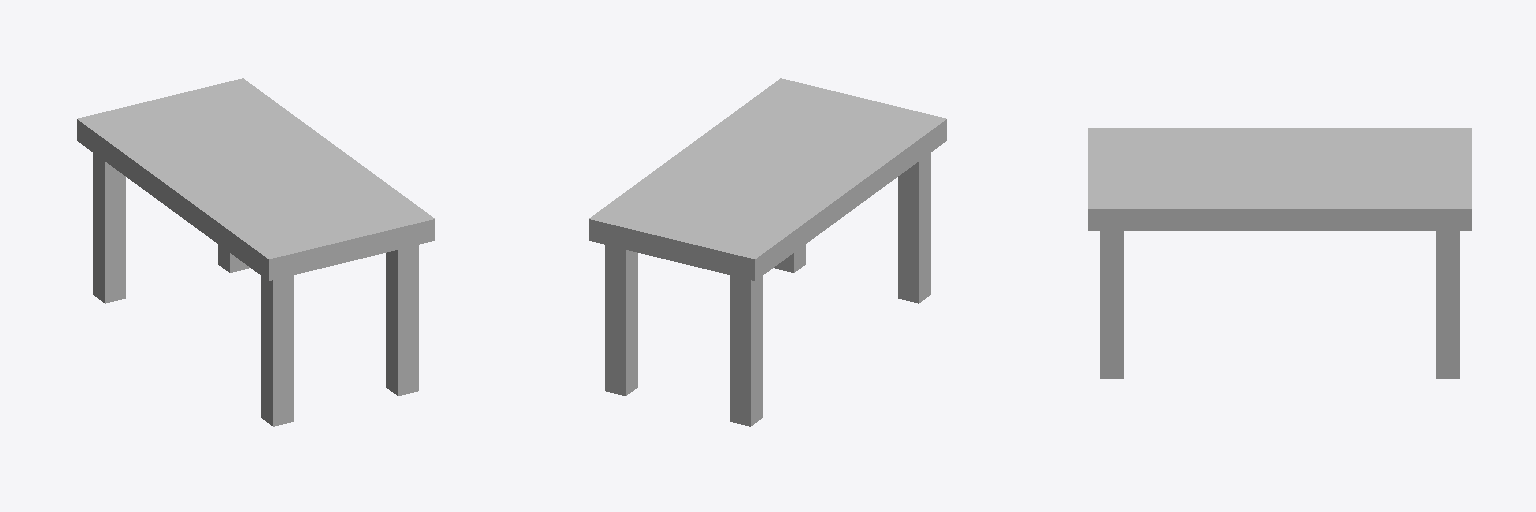
Rendered from table.obj.
The picture shows the model from 3 angles: view 1: azimuth 30°, elevation 25°; view 2: azimuth 150°, elevation 25°; view 3: azimuth 270°, elevation 25°; orthographic projection.
Bounding box in the file's own units: 16 × 16 × 32.